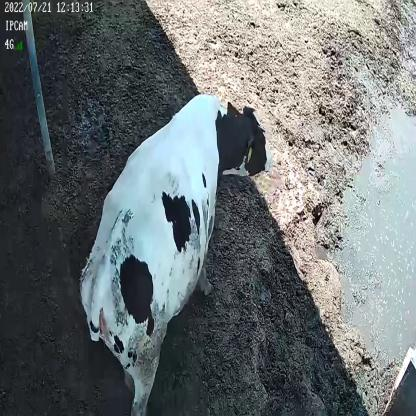cow: (76, 89, 274, 416)
